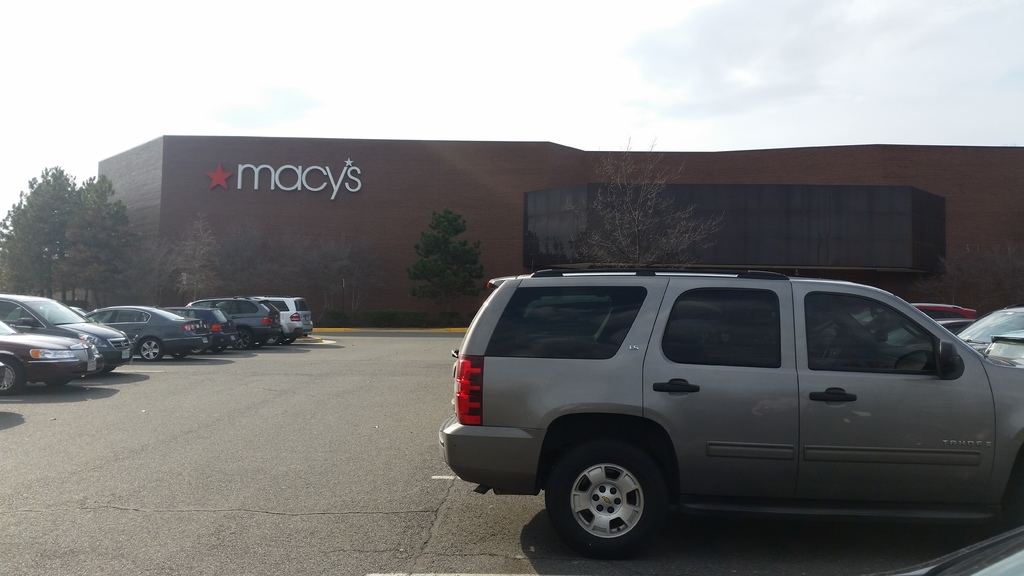Tree: (0, 165, 387, 325), (563, 135, 729, 268), (406, 205, 487, 318), (908, 237, 1024, 313)
